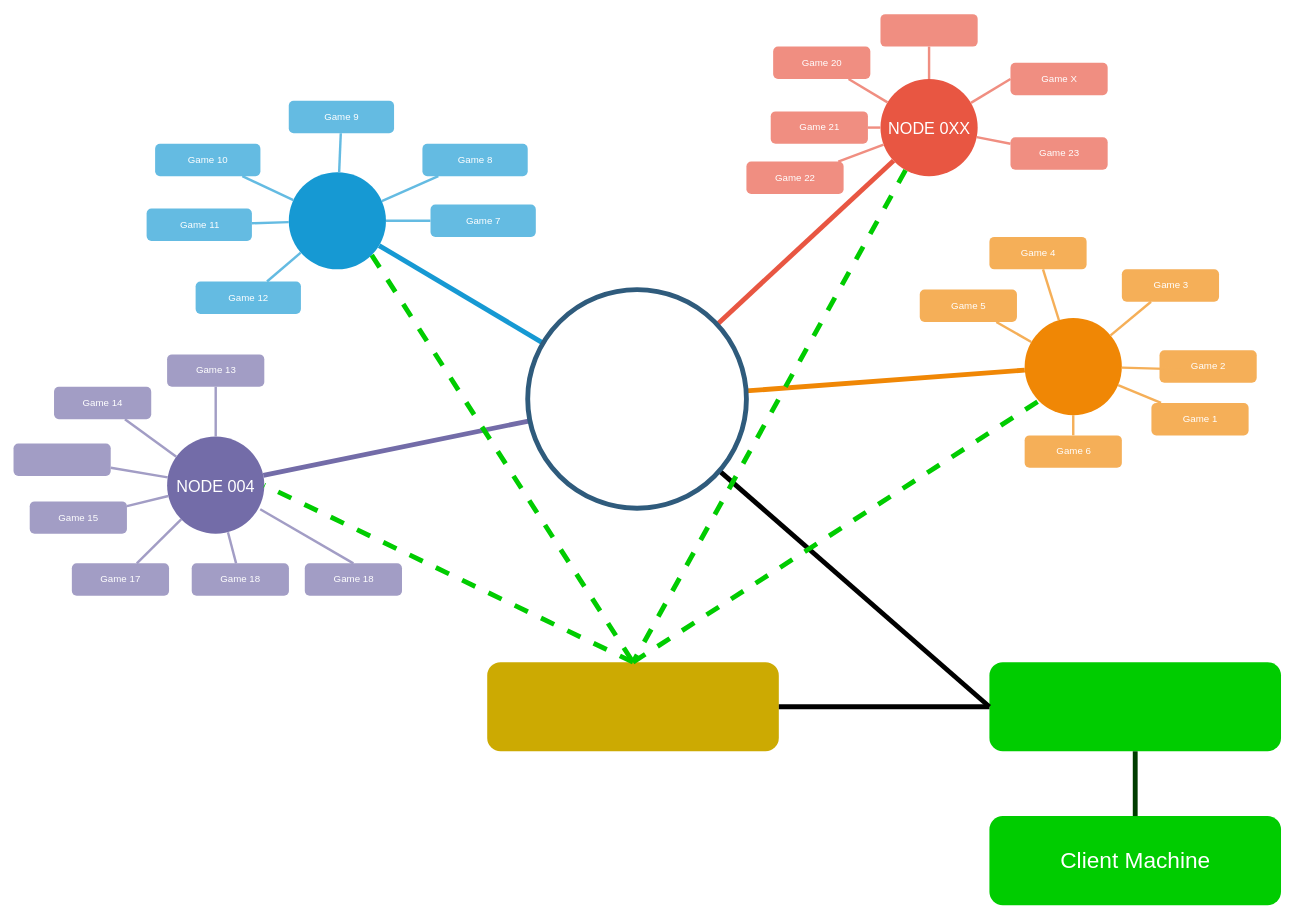
Some shapes in this 1295 by 919 pixel diagram are drawn without their labels. The centre of each missing label's shape, as x and y in pixels:
"ARGO-1/2 Head Node" belongs at (1135,706).
"Game 16" belongs at (61,459).
"Game 19" belongs at (928,30).
"MySQL Container NODE 0XX" belongs at (636,398).
"NODE 002" belongs at (1072,366).
"NODE 003" belongs at (337,220).
"Slurm Job Scheduler" belongs at (632,706).
